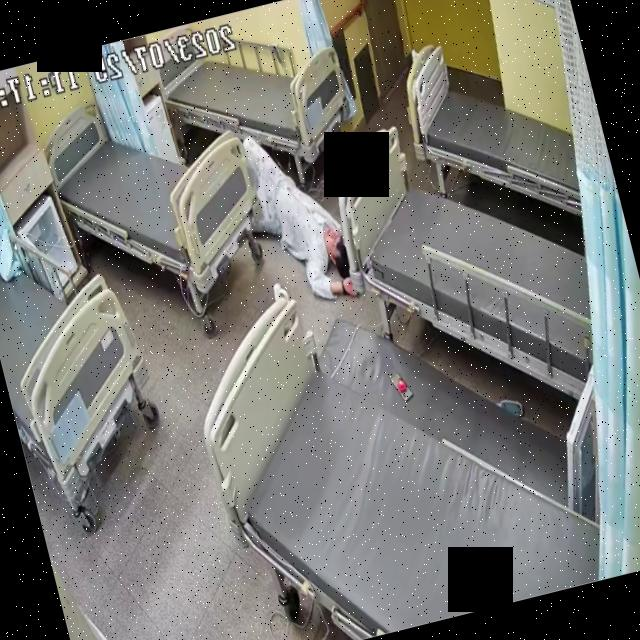bed: (185, 245, 612, 640), (322, 92, 620, 433), (0, 191, 168, 508), (40, 76, 274, 300), (391, 16, 592, 245), (152, 8, 356, 190)
fall: (230, 123, 360, 314)
patient: (230, 122, 360, 312)
